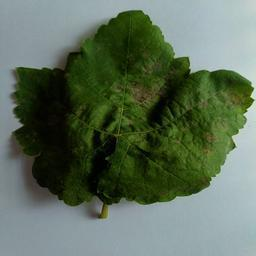Powdery-Mildew: (84, 106, 111, 143), (210, 92, 243, 119), (198, 129, 226, 154), (138, 52, 161, 82), (107, 114, 134, 135), (129, 128, 150, 151), (132, 84, 154, 103)
